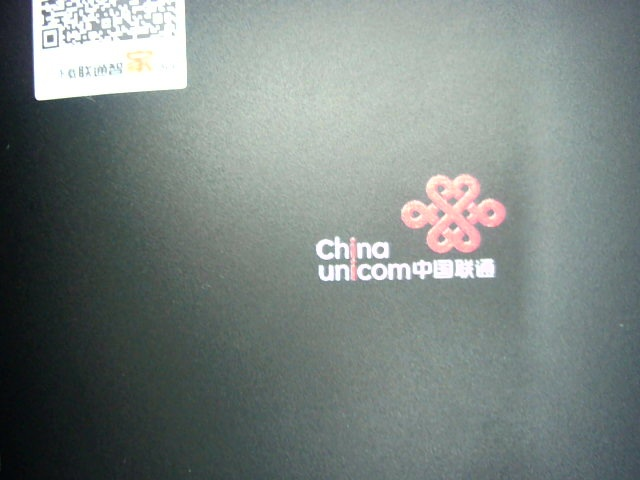AC_ChinaUnicom: (305, 169, 517, 284)
